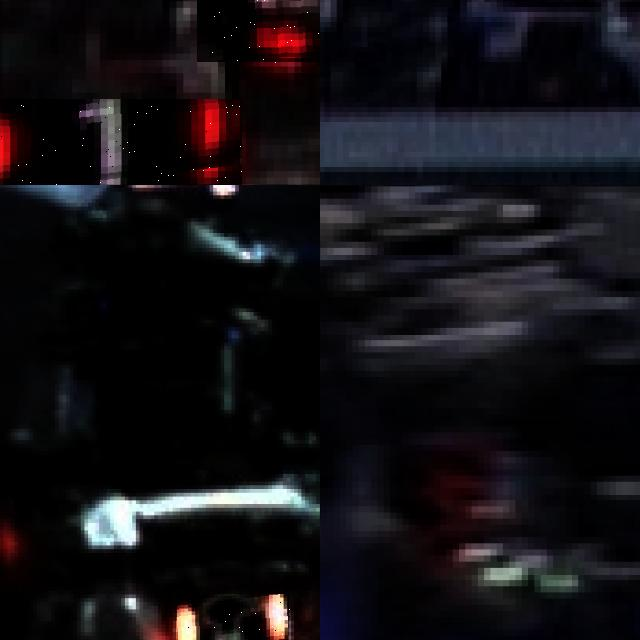R1: (0, 99, 242, 185), (197, 0, 320, 63)
Rs: (176, 594, 290, 640)
